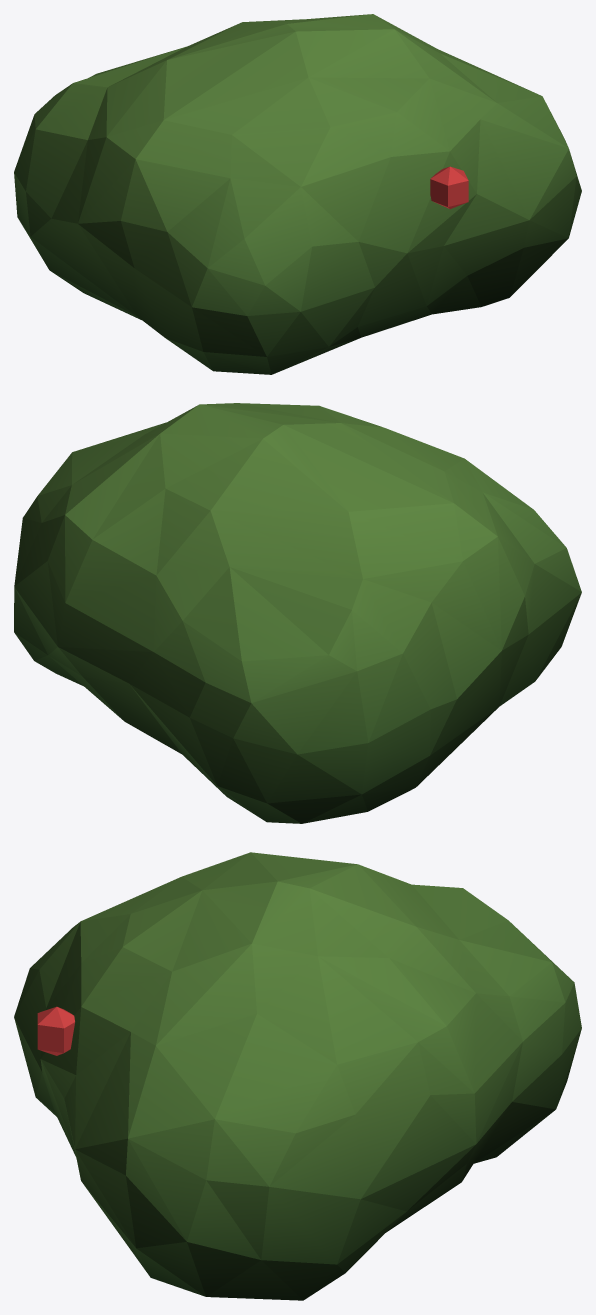
File: krzak.glb
3 renders of one model, top to bottom at view 1: azimuth 30°, elevation 25°; view 2: azimuth 150°, elevation 25°; view 3: azimuth 270°, elevation 25°, orthographic. The views are drawn at different scales.
Visible parts, largest first — view 1: krzak_0; view 2: krzak_0; view 3: krzak_0.
Boxes of the visible parts, x1,y1,x2,y2 form: krzak_0: (14,14,581,374); krzak_0: (14,403,581,823); krzak_0: (14,852,581,1300).
Bounding box in the file's own units: 0.7814 × 0.4835 × 0.7295.
